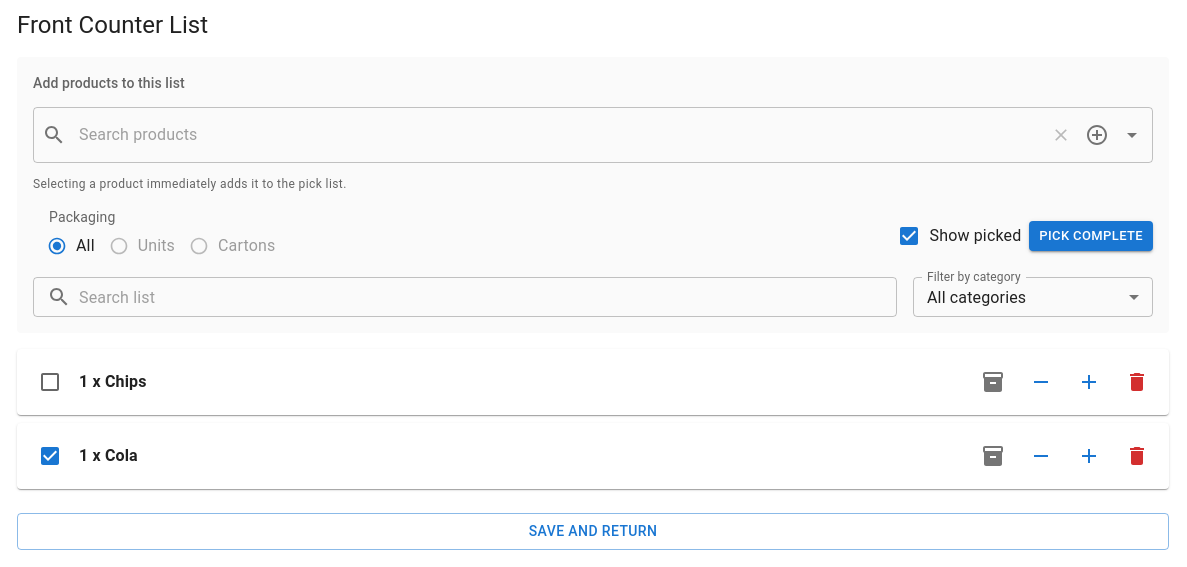
Test case: ActivePickListScreen product search › hides picked items when show picked is unchecked
# Uncheck show picked and ensure picked row is hidden
Step 1. Click the 1st checkbox labelled "Show picked" → [959, 236], box [896,224,1021,248]
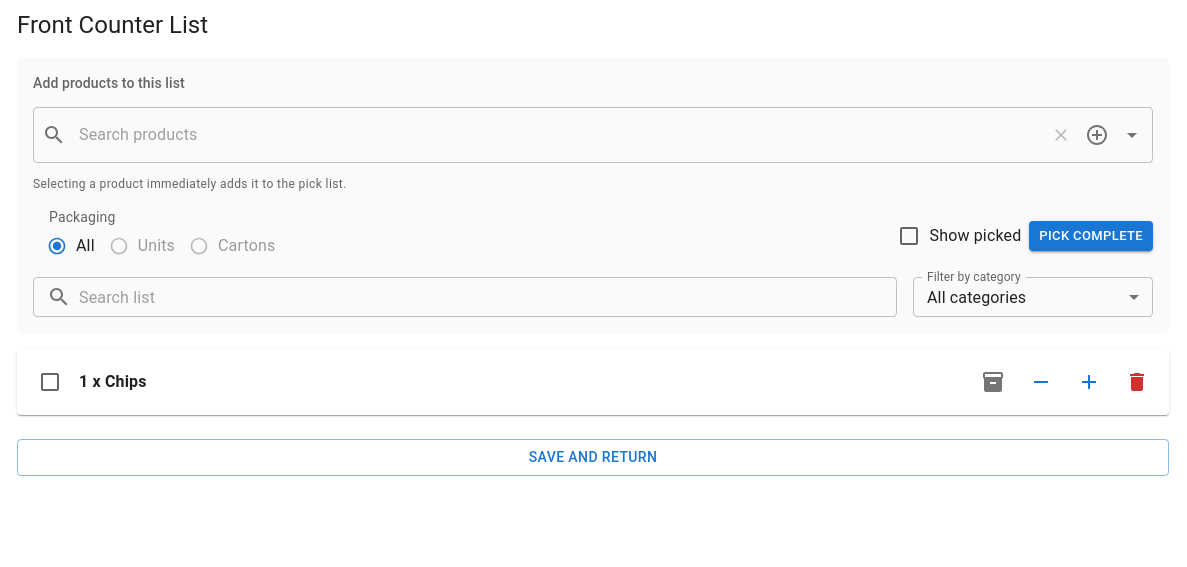
Check: the text "1 x Chips" is shown, box [79,372,147,391]
Check: the text "Cola" is gone
